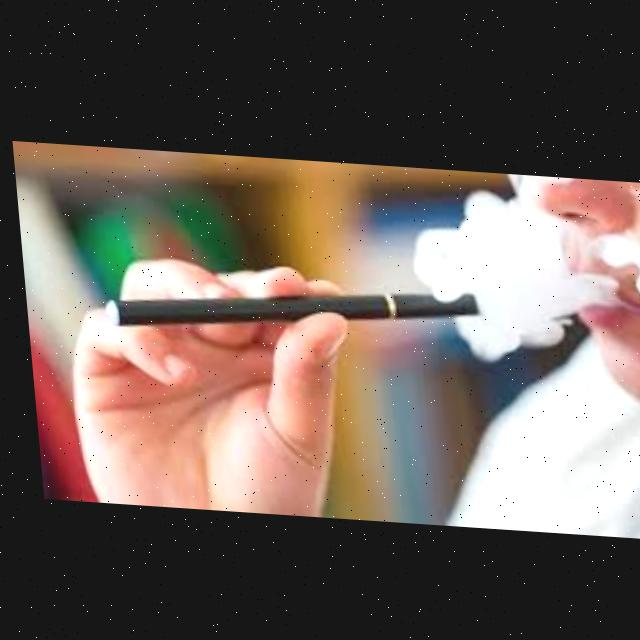vape: (95, 267, 476, 347)
